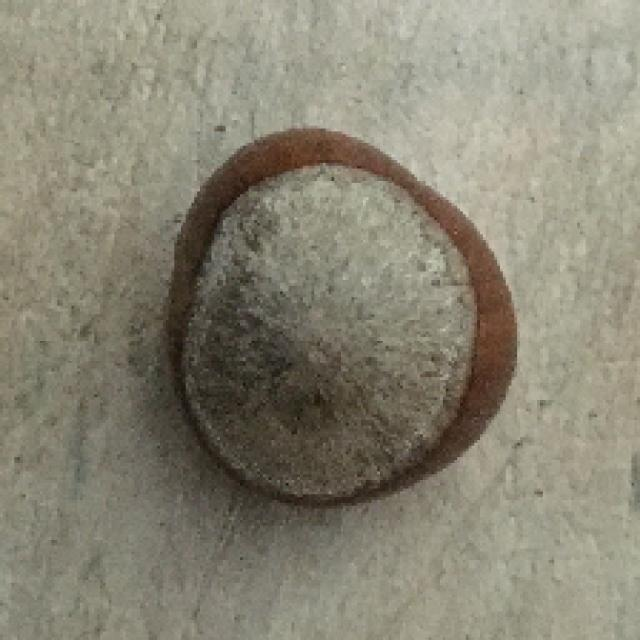qualityHazelnut: (160, 117, 520, 521)
